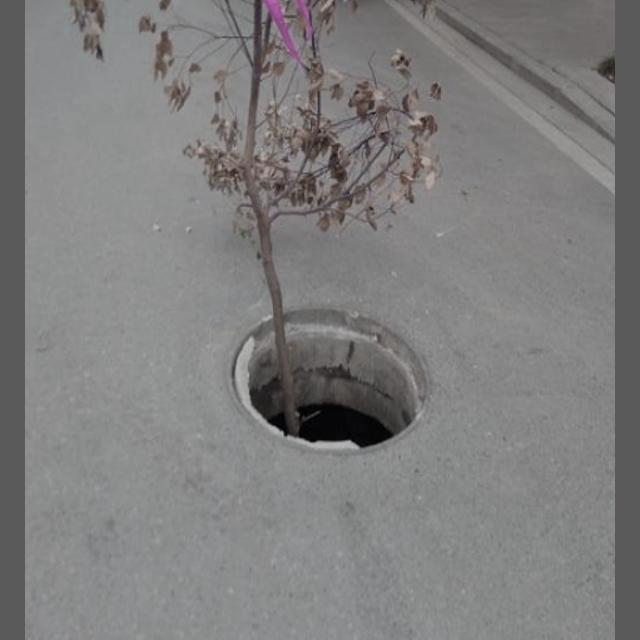lose: (233, 308, 431, 455)
